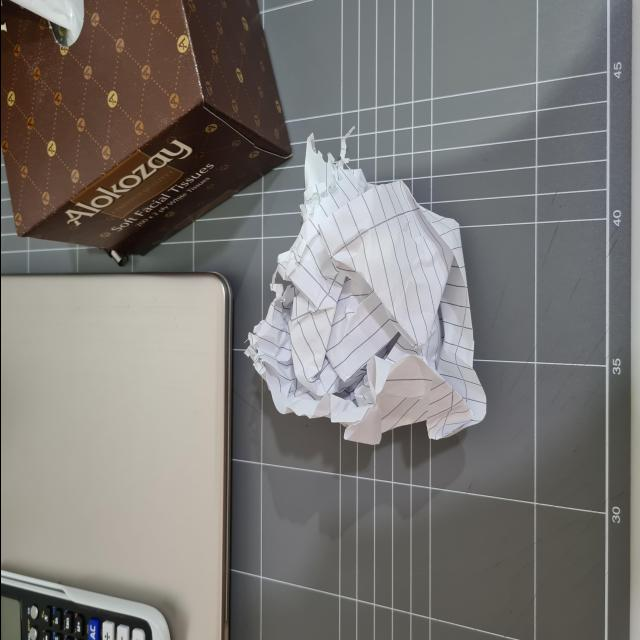kertas: (250, 104, 486, 444)
